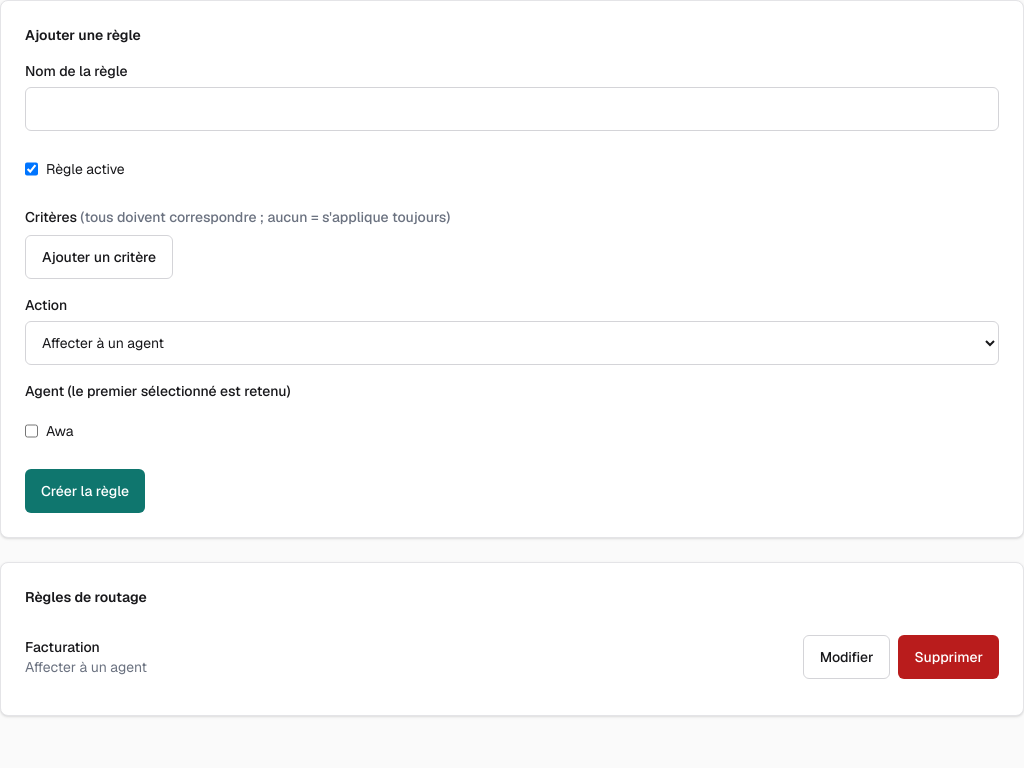
Test case: RoutingRulesPage › supprime une regle
expect the text "Facturation" is shown: met, box 25,638 -> 100,656
Click the button "Supprimer".
click(949, 657)  # box 898,635 -> 999,679
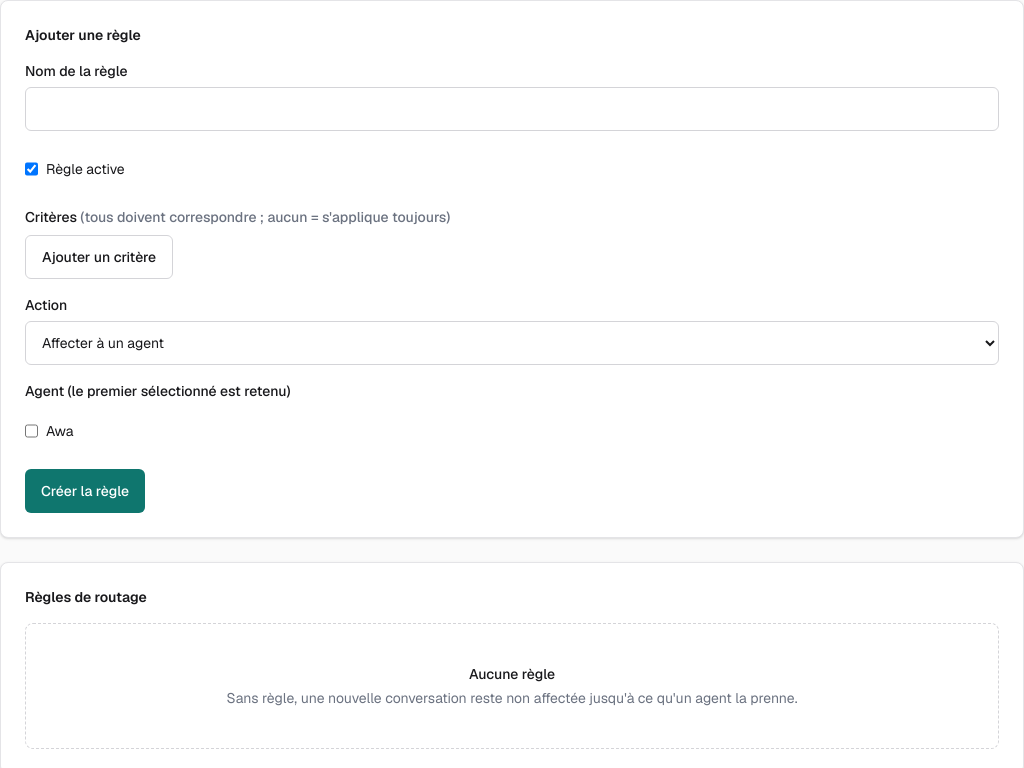
expect the text "Facturation" is gone: met
